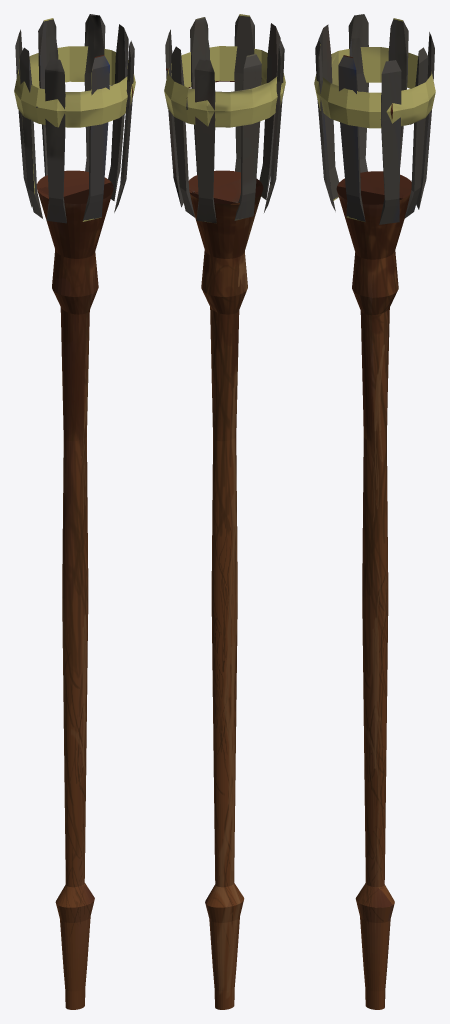
File: torch.fbx
3 renders of one model, left to right at view 1: azimuth 30°, elevation 25°; view 2: azimuth 210°, elevation 25°; view 3: azimuth 330°, elevation 25°, orthographic.
Parts seen in each view (by area): view 1: Cylinder, Cube.001, Torus; view 2: Cylinder, Cube.001, Torus; view 3: Cylinder, Cube.001, Torus.
Part boxes in pixels (<box>): Cylinder: <box>37,170,113,1009</box>; Cube.001: <box>15,14,134,223</box>; Torus: <box>14,46,135,127</box>; Cylinder: <box>188,170,263,1009</box>; Cube.001: <box>165,14,284,223</box>; Torus: <box>164,46,285,127</box>; Cylinder: <box>336,171,411,1009</box>; Cube.001: <box>315,14,434,224</box>; Torus: <box>314,47,435,128</box>.
Bounding box in the file's own units: 35.3 × 303 × 32.38.
